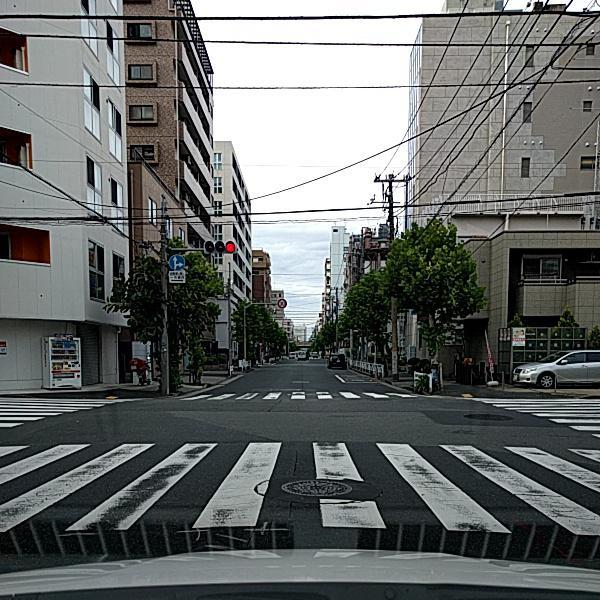D43: (6, 440, 599, 546)
D50: (276, 474, 343, 496), (460, 408, 513, 425)
